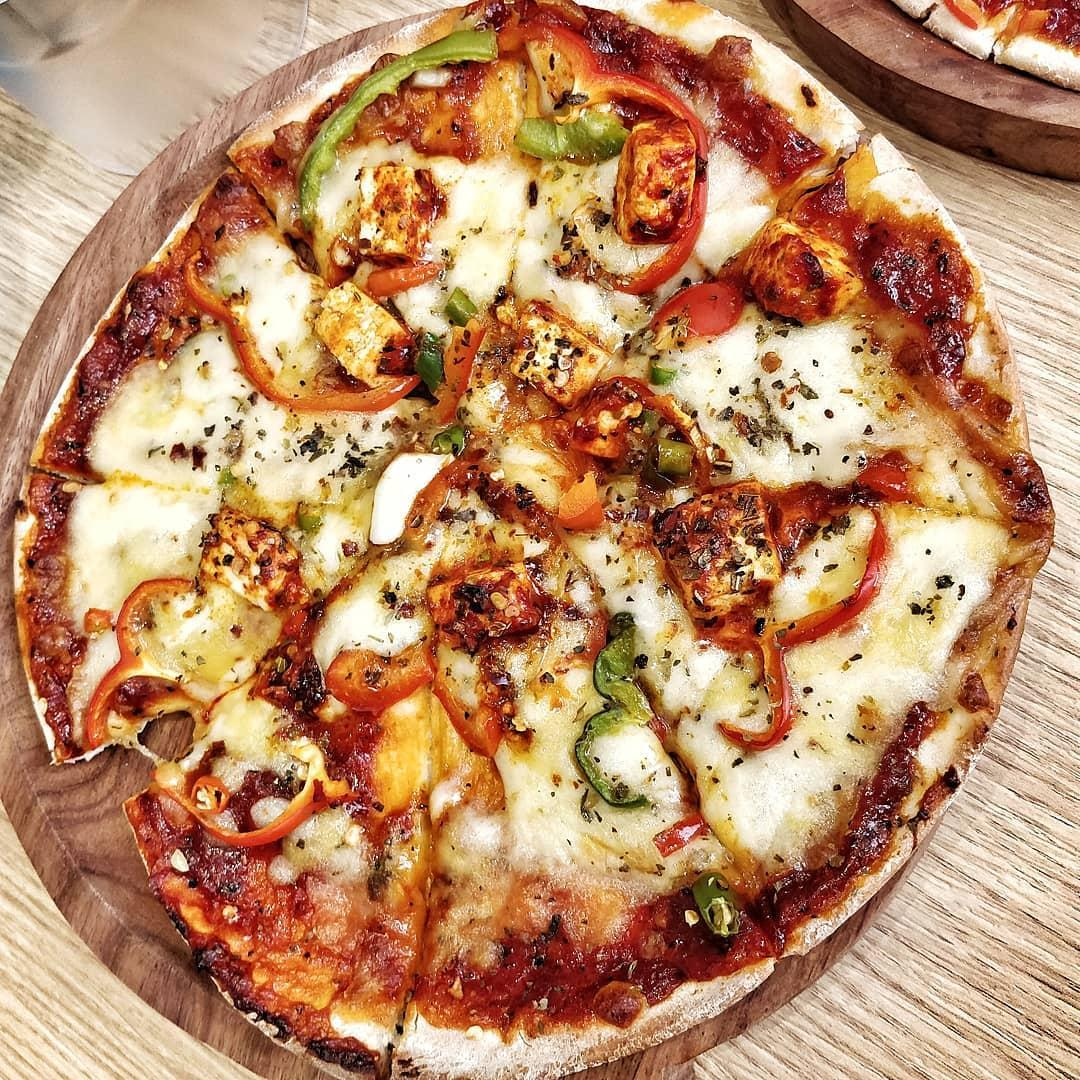Chicken: (665, 480, 785, 629), (736, 206, 867, 341), (416, 558, 558, 649), (496, 298, 619, 403), (197, 499, 302, 614), (618, 111, 705, 240)
Peppers: (0, 13, 1039, 1055), (718, 483, 891, 763), (290, 27, 507, 223), (173, 243, 417, 415), (90, 561, 197, 773), (565, 593, 657, 827), (143, 769, 319, 848), (508, 95, 635, 161), (327, 648, 442, 714), (683, 863, 751, 957), (583, 251, 711, 298)
